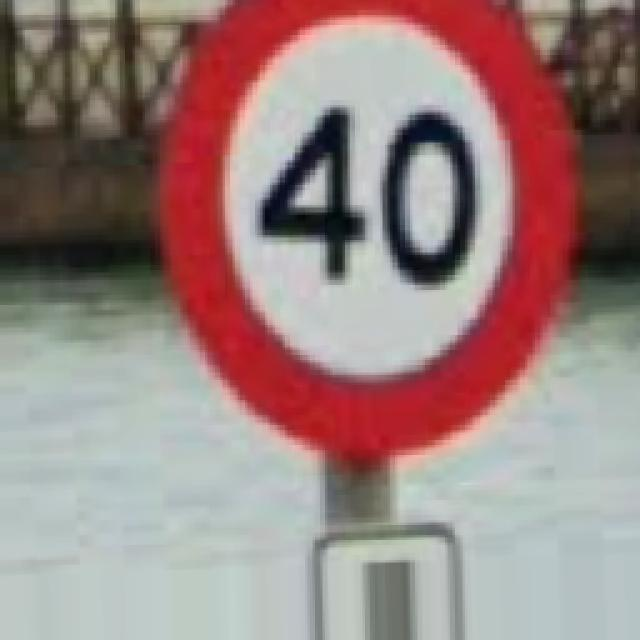Speed Limit -40-: (162, 0, 570, 458)
